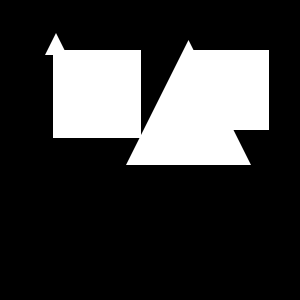circle: (53, 50, 141, 138), (189, 50, 269, 130)
triangle: (126, 40, 251, 165), (45, 33, 67, 55)
